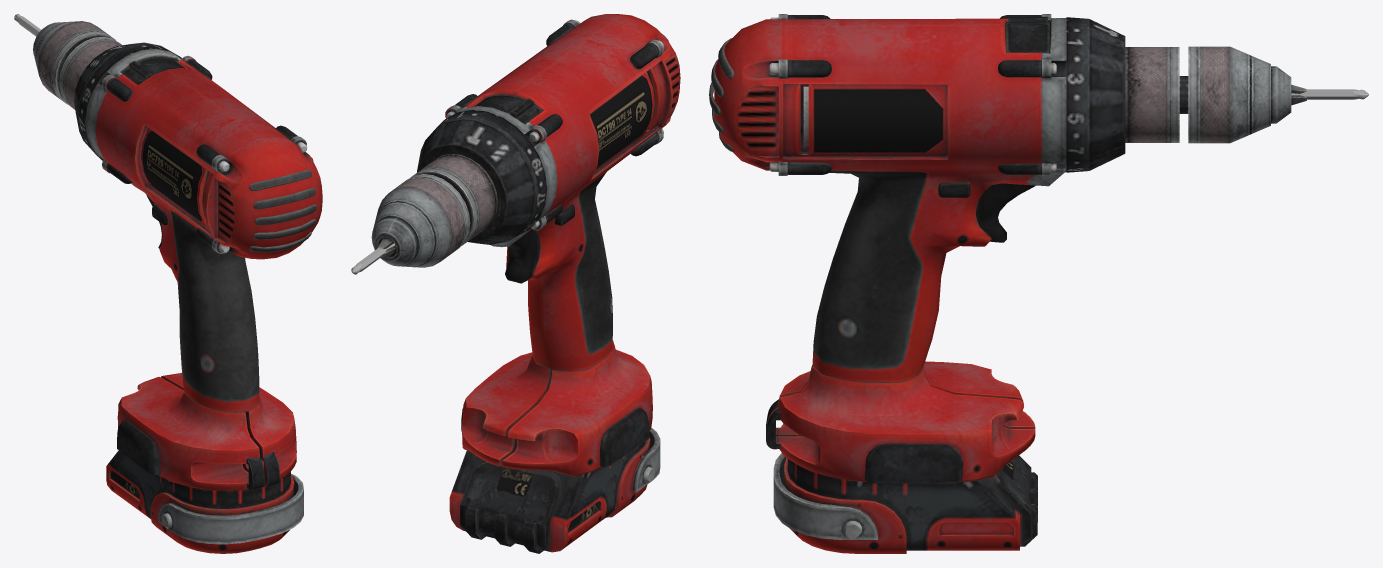
The model's file is ShouDianZuan.fbx.
3 renders of one model, left to right at view 1: azimuth 30°, elevation 25°; view 2: azimuth 150°, elevation 25°; view 3: azimuth 270°, elevation 25°, orthographic. The views are drawn at different scales.
Parts seen in each view (by area): view 1: polySurface8, polySurface7; view 2: polySurface8, polySurface7, SDZ_BanJi; view 3: polySurface8, polySurface7, SDZ_BanJi.
Part boxes in pixels (x1=…): polySurface8: x1=59, y1=37, x2=322, y2=553; polySurface7: x1=33, y1=21, x2=115, y2=104; polySurface8: x1=410, y1=14, x2=680, y2=553; polySurface7: x1=371, y1=174, x2=470, y2=267; SDZ_BanJi: x1=505, y1=229, x2=539, y2=283; polySurface8: x1=709, y1=14, x2=1188, y2=553; polySurface7: x1=1188, y1=46, x2=1306, y2=143; SDZ_BanJi: x1=975, y1=183, x2=1035, y2=242.
Bounding box in the file's own units: 9.09 × 25.14 × 29.83.
Materials: 2 (1 with a texture image).
